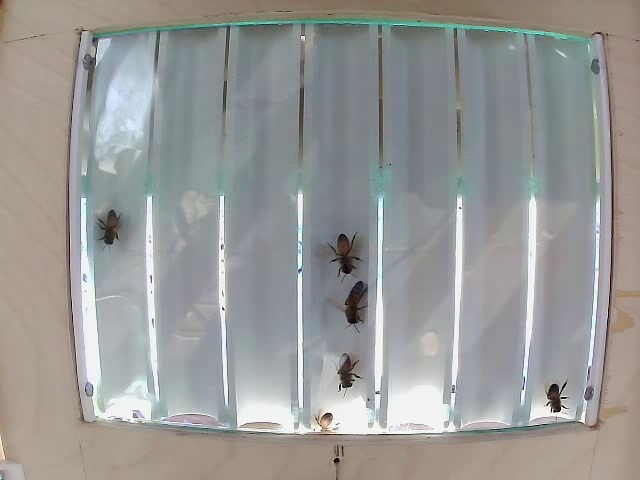bee: (334, 278, 363, 326), (326, 230, 353, 281), (538, 380, 568, 421), (326, 354, 348, 386), (111, 224, 136, 249)
